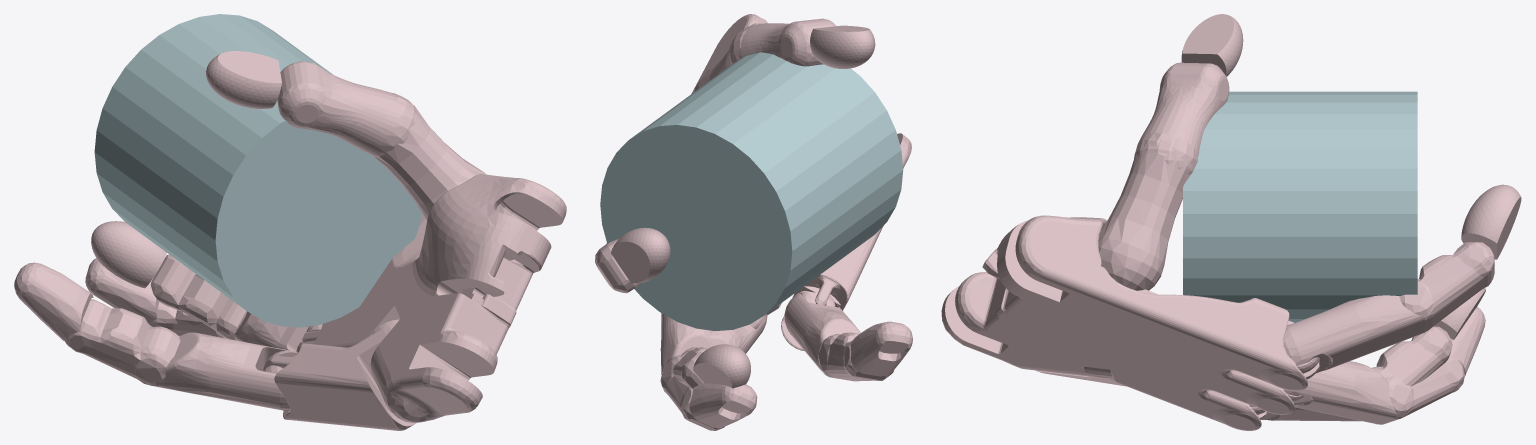
Rendered from grasp_7.glb.
3 renders of one model, left to right at view 1: azimuth 30°, elevation 25°; view 2: azimuth 150°, elevation 25°; view 3: azimuth 270°, elevation 25°, orthographic. The views are drawn at different scales.
Parts seen in each view (by area): view 1: world; view 2: world; view 3: world.
Boxes of the visible parts, box(x1,y1,x2,y2) form: world: box(14, 14, 566, 430); world: box(595, 14, 912, 430); world: box(941, 14, 1521, 430).
Size of the model in its own units: 0.1444 by 0.1357 by 0.1978.
